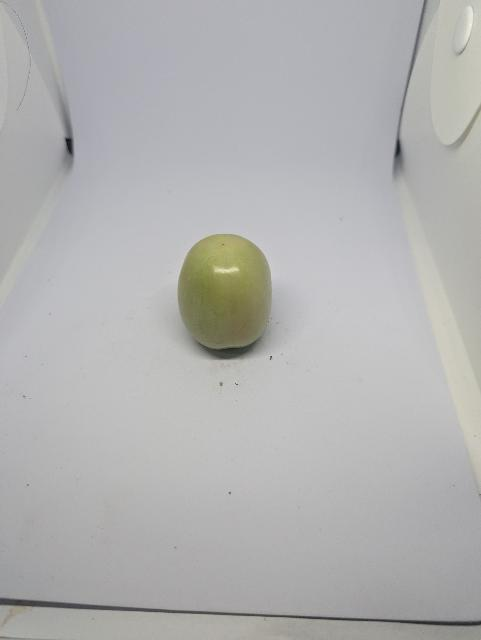green: (162, 211, 285, 366)
